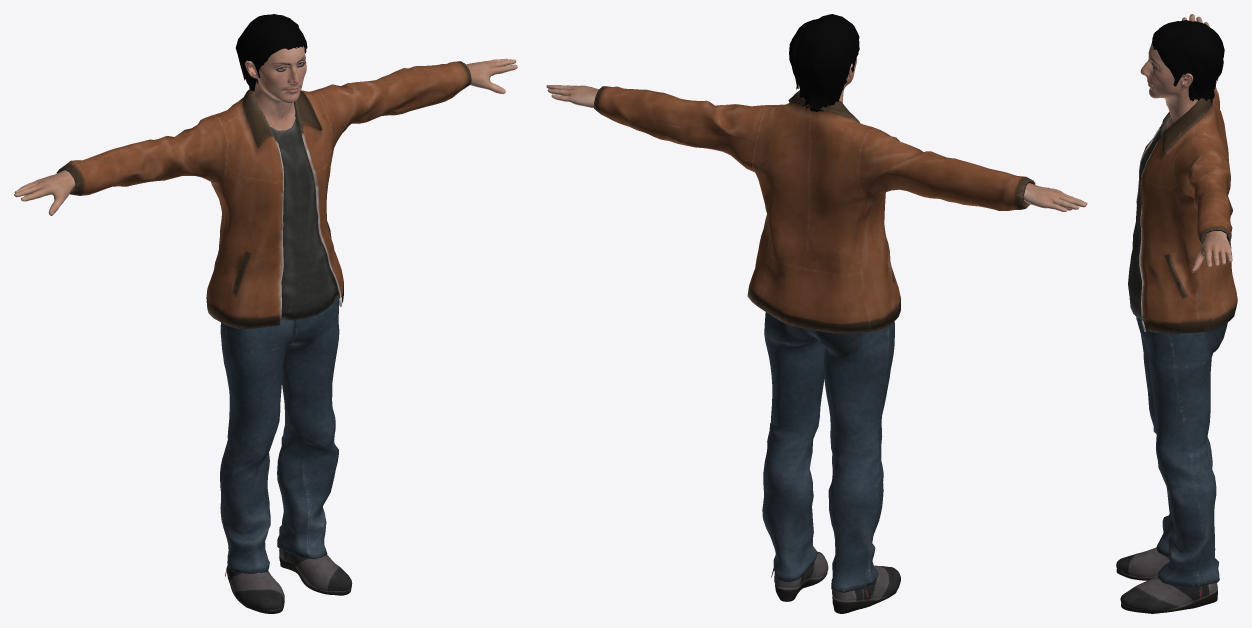
The model's file is Male-Generic-3.obj.
The picture shows the model from 3 angles, left to right: view 1: azimuth 30°, elevation 25°; view 2: azimuth 150°, elevation 25°; view 3: azimuth 270°, elevation 25°; orthographic projection. The views are drawn at different scales.
Visible parts, largest first — view 1: Tops, Bottoms, Body, Shoes, Hair; view 2: Tops, Bottoms, Hair, Shoes, Body; view 3: Tops, Bottoms, Hair, Shoes, Body.
Boxes of the visible parts, x1=… form: Tops: x1=56, y1=61, x2=471, y2=328; Bottoms: x1=220, y1=297, x2=339, y2=573; Body: x1=14, y1=46, x2=517, y2=215; Shoes: x1=225, y1=548, x2=352, y2=613; Hair: x1=235, y1=14, x2=307, y2=91; Tops: x1=594, y1=86, x2=1035, y2=333; Bottoms: x1=762, y1=312, x2=894, y2=592; Hair: x1=789, y1=14, x2=859, y2=111; Shoes: x1=771, y1=551, x2=900, y2=613; Body: x1=546, y1=58, x2=1087, y2=211; Tops: x1=1128, y1=85, x2=1237, y2=333; Bottoms: x1=1136, y1=317, x2=1227, y2=587; Hair: x1=1152, y1=20, x2=1224, y2=106; Shoes: x1=1116, y1=547, x2=1217, y2=613; Body: x1=1140, y1=14, x2=1232, y2=272.
Bounding box in the file's own units: 174 × 182 × 35.49.
1 material, 1 textured.
